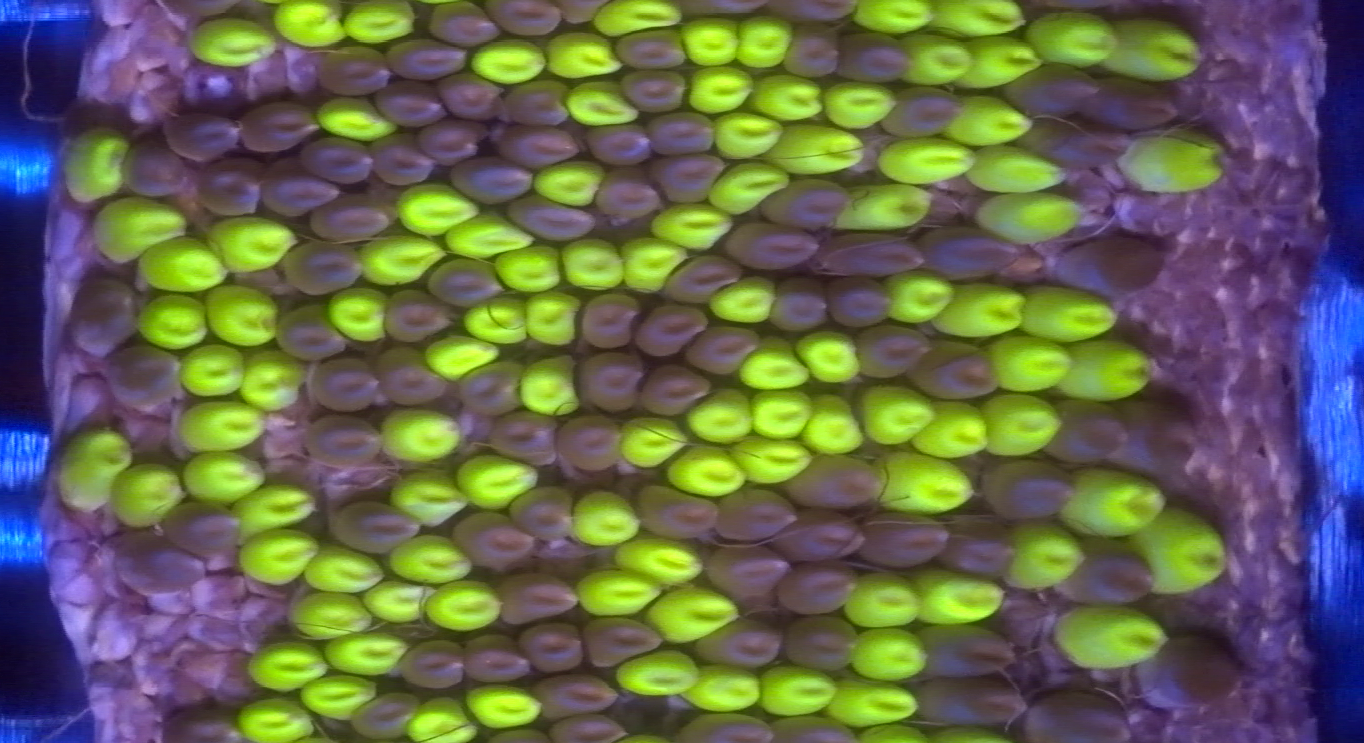fluorescent: (1130, 509, 1225, 596), (1059, 602, 1163, 668), (1121, 128, 1226, 190), (1064, 469, 1165, 533), (89, 199, 186, 261), (1015, 283, 1116, 339), (871, 453, 970, 510), (56, 429, 122, 513), (1109, 21, 1199, 80), (1007, 521, 1087, 586), (1061, 343, 1150, 400), (977, 193, 1080, 242), (979, 393, 1060, 455), (914, 569, 1004, 624), (939, 279, 1022, 335), (856, 384, 933, 441), (771, 125, 864, 172), (990, 334, 1065, 391), (227, 486, 317, 533), (914, 399, 987, 456), (142, 242, 222, 293), (392, 526, 466, 581), (617, 239, 688, 296), (111, 466, 182, 523), (205, 287, 277, 343), (62, 131, 123, 197), (969, 149, 1068, 189), (135, 295, 207, 350), (1030, 15, 1109, 65), (238, 531, 315, 582), (707, 165, 787, 214), (359, 234, 439, 283), (445, 209, 532, 254), (943, 96, 1029, 141), (398, 183, 473, 234), (879, 142, 970, 184), (621, 535, 702, 582), (382, 405, 458, 455), (180, 454, 264, 499), (845, 576, 922, 625), (455, 460, 537, 506), (887, 268, 951, 326), (854, 629, 928, 679), (654, 593, 736, 638), (433, 576, 502, 629), (175, 403, 262, 445), (212, 222, 295, 265), (246, 641, 327, 685), (956, 44, 1038, 87), (847, 183, 929, 226), (623, 650, 694, 699), (732, 437, 812, 480), (522, 358, 579, 417), (242, 351, 303, 406), (795, 332, 862, 382), (668, 450, 740, 496), (300, 678, 377, 721), (655, 205, 734, 246), (194, 20, 271, 62), (468, 39, 546, 80), (534, 158, 602, 205), (570, 495, 635, 544), (392, 479, 466, 522), (308, 549, 380, 593), (838, 683, 914, 724), (292, 596, 374, 634), (323, 637, 407, 674), (549, 34, 616, 80), (329, 286, 388, 338), (523, 292, 582, 344), (740, 339, 806, 385), (277, 1, 341, 48), (465, 686, 544, 724), (825, 83, 890, 129), (754, 76, 820, 121), (689, 385, 747, 436), (566, 82, 638, 123), (581, 569, 651, 610), (562, 242, 621, 290), (319, 96, 388, 137), (808, 399, 861, 452), (426, 335, 496, 375), (238, 702, 315, 738), (937, 1, 1023, 33), (901, 38, 966, 80), (181, 347, 243, 391), (771, 667, 829, 714), (471, 296, 524, 347), (679, 18, 740, 62), (712, 278, 773, 322), (493, 246, 560, 286), (407, 705, 477, 742), (716, 116, 774, 160), (851, 1, 930, 33), (689, 70, 752, 110), (696, 669, 754, 711), (594, 3, 684, 30), (366, 583, 433, 619), (628, 416, 683, 459), (754, 392, 805, 437), (346, 7, 412, 40), (737, 22, 785, 62)
nonfluorescent: (1113, 392, 1202, 484), (1056, 233, 1169, 298), (1150, 634, 1242, 713), (1060, 537, 1155, 608), (1017, 688, 1137, 743), (914, 617, 1020, 679), (914, 671, 1024, 729), (783, 449, 882, 513), (977, 455, 1073, 520), (920, 220, 1022, 281), (69, 274, 141, 357), (1083, 74, 1181, 134), (114, 537, 208, 599), (812, 229, 927, 279), (859, 510, 953, 571), (450, 509, 539, 572), (773, 508, 868, 566), (919, 337, 1001, 403), (1028, 116, 1132, 168), (691, 612, 785, 669), (941, 508, 1016, 579), (325, 498, 420, 554), (106, 345, 183, 414), (1047, 399, 1123, 467), (160, 499, 247, 558), (635, 483, 722, 542), (836, 26, 917, 89), (1001, 62, 1099, 114), (255, 155, 339, 215), (723, 222, 823, 271), (237, 98, 320, 157), (278, 239, 363, 296), (685, 319, 764, 380), (446, 153, 535, 206), (712, 489, 796, 545), (635, 299, 709, 362), (301, 412, 384, 468), (703, 541, 789, 595), (848, 320, 928, 378), (374, 350, 451, 410), (195, 153, 260, 224), (657, 253, 744, 306), (780, 564, 862, 620), (120, 133, 188, 200), (760, 176, 849, 227), (486, 408, 558, 470), (502, 191, 592, 240), (575, 288, 645, 351), (423, 256, 506, 309), (305, 353, 377, 414), (496, 574, 582, 625), (580, 615, 667, 665), (779, 617, 857, 672), (823, 271, 899, 327), (157, 109, 242, 159), (456, 360, 531, 416), (273, 300, 345, 358), (646, 149, 723, 203), (461, 629, 535, 685), (315, 44, 399, 93), (591, 170, 662, 227), (382, 287, 454, 342), (762, 276, 830, 334), (496, 124, 581, 170), (556, 415, 622, 474), (607, 28, 693, 73), (427, 1, 504, 51), (384, 39, 471, 83), (309, 195, 394, 240), (885, 87, 961, 137), (399, 637, 469, 691), (351, 690, 425, 741), (673, 707, 777, 743), (776, 24, 842, 80), (371, 78, 447, 126), (518, 619, 583, 675), (620, 66, 692, 116), (512, 487, 576, 543), (418, 118, 491, 166), (643, 369, 716, 417), (161, 702, 246, 743), (303, 137, 375, 185), (534, 672, 620, 711), (644, 115, 721, 158), (582, 355, 641, 411), (499, 80, 570, 125), (374, 134, 439, 183), (439, 73, 499, 124), (540, 709, 629, 743), (586, 122, 653, 167), (485, 1, 561, 37), (768, 714, 856, 743), (767, 1, 862, 25)
